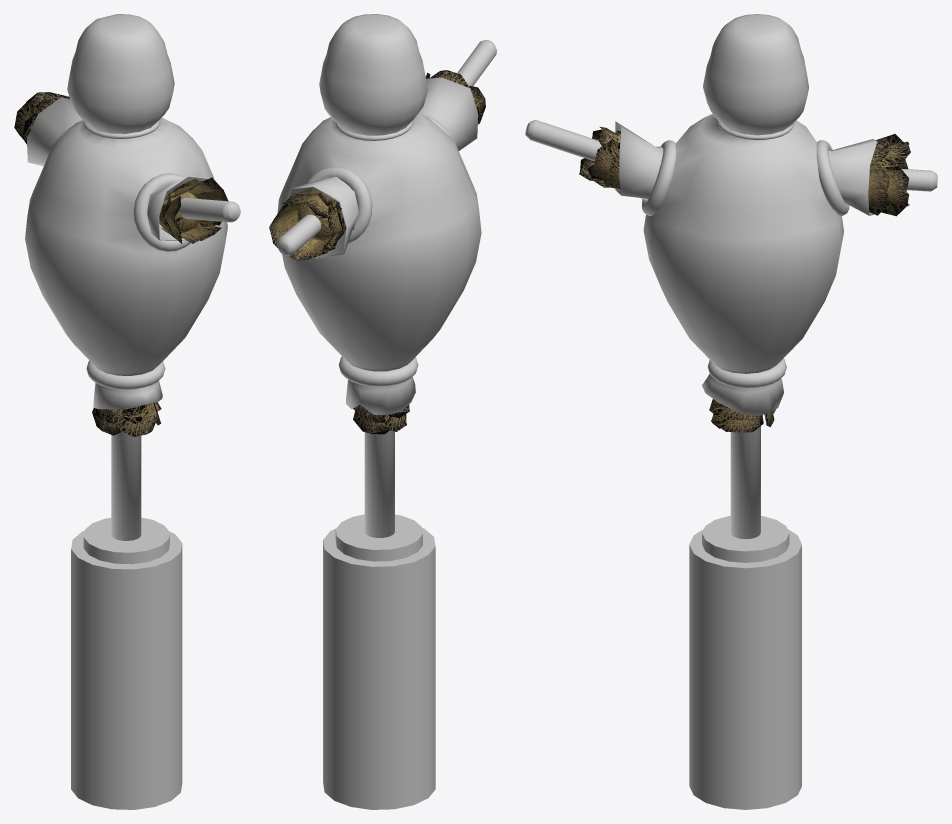
File: SM_TrainingDummy_3.FBX
3 views of the same model, side by side, from view 1: azimuth 30°, elevation 25°; view 2: azimuth 150°, elevation 25°; view 3: azimuth 270°, elevation 25° (orthographic).
Visible parts, largest first — view 1: SM_TrainingDummy_3; view 2: SM_TrainingDummy_3; view 3: SM_TrainingDummy_3.
Part boxes in pixels (x1,y1,x2,y2): SM_TrainingDummy_3: (14, 14, 240, 809); SM_TrainingDummy_3: (269, 14, 496, 809); SM_TrainingDummy_3: (525, 14, 937, 809).
Size of what is drawn, in the model's own units: 59.92 by 120 by 245.
